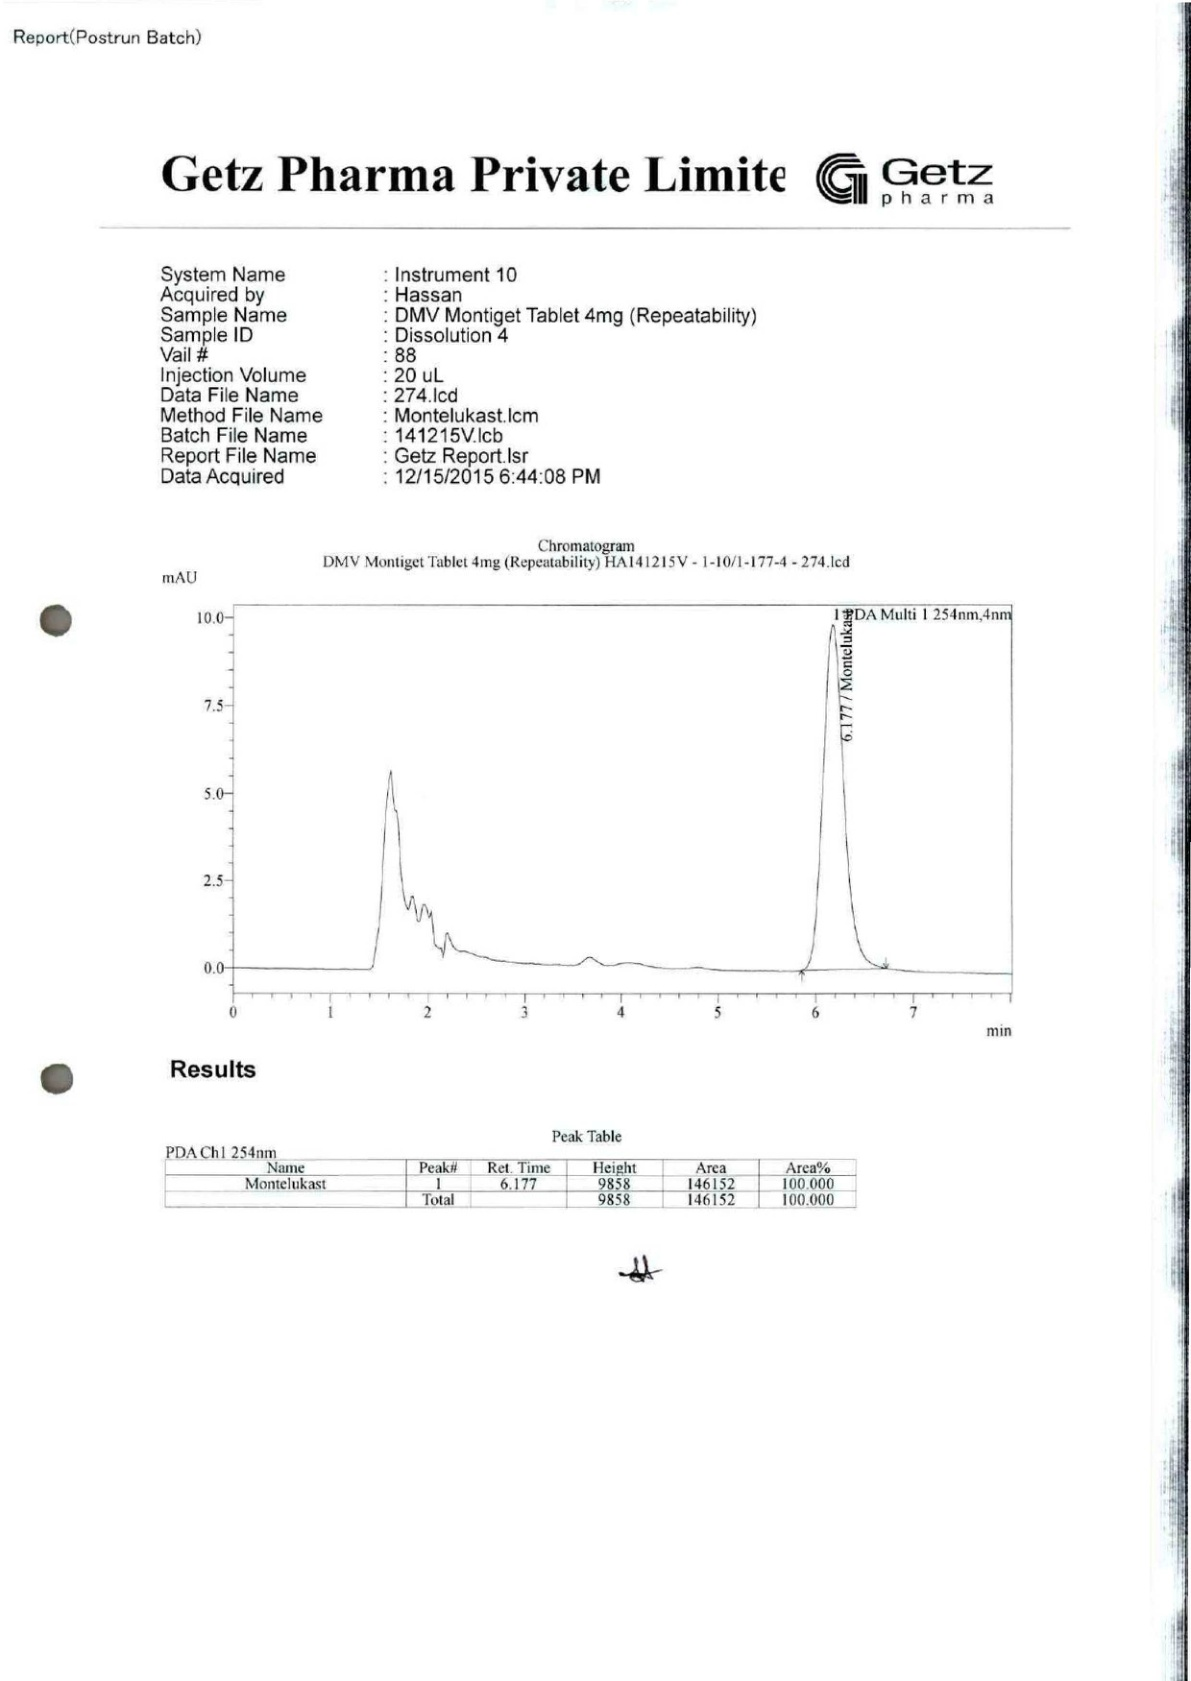full_lined: (162, 1158, 858, 1210)
nolines: (156, 259, 760, 490)
